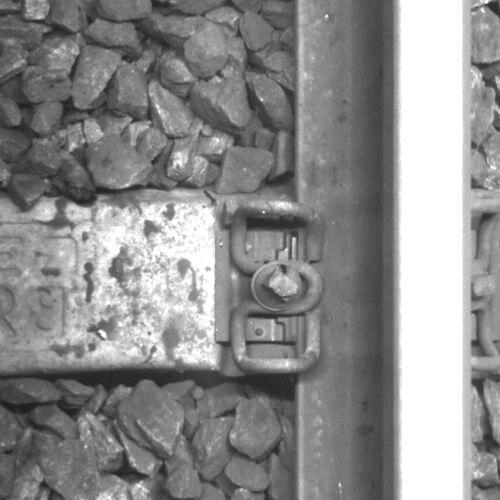rail: (394, 1, 470, 500)
tie_concr: (1, 201, 296, 368)
vossloh: (216, 196, 327, 373)
